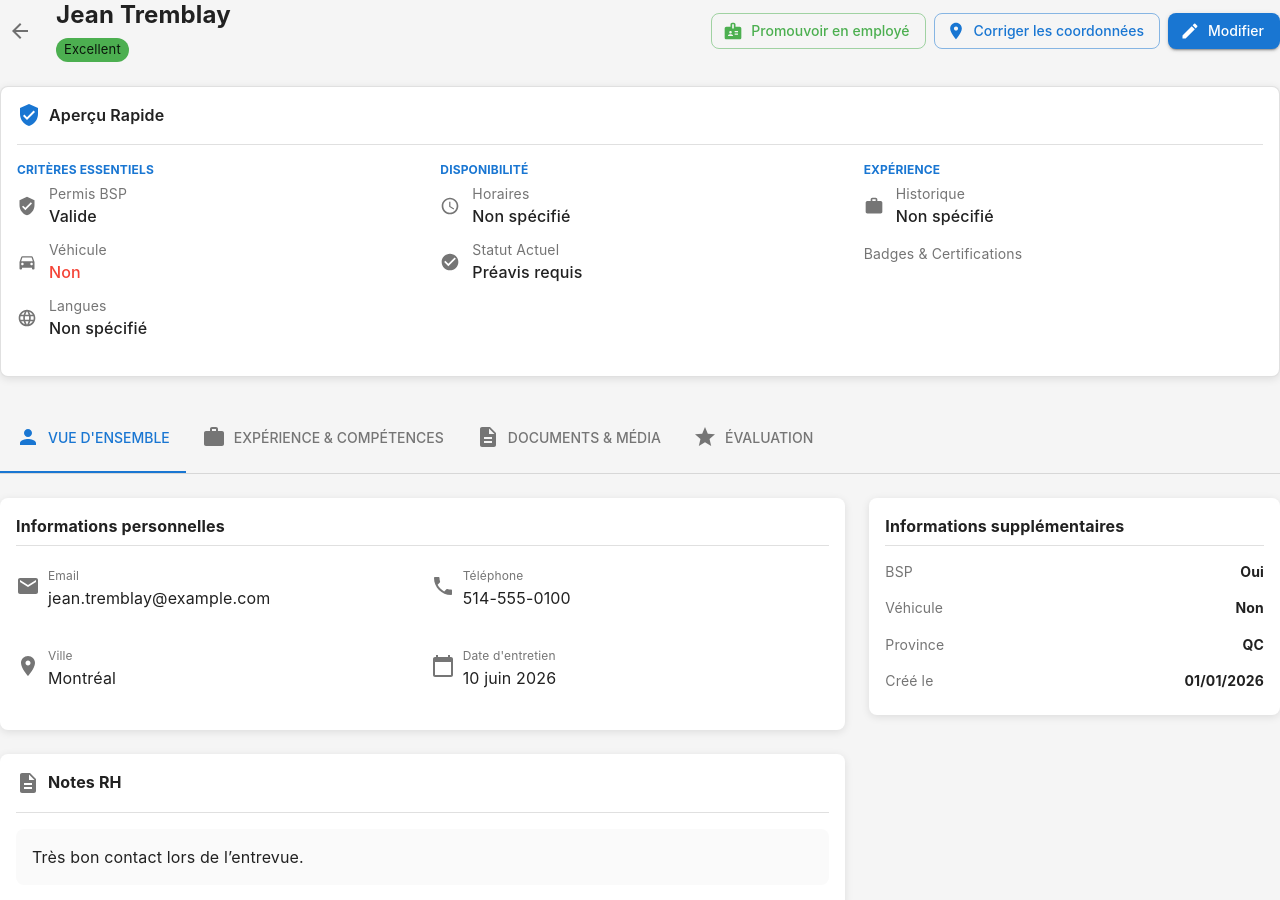
Test: CandidateDetailPage › ouvre le dialog « Promouvoir en employé » au clic
The width and height of the screenshot is (1280, 900).
Expected: the heading "Jean Tremblay" is shown, [56,0,231,30]
Step 1. Click the button "Promouvoir en employé" → (818, 31), box [711,13,926,49]
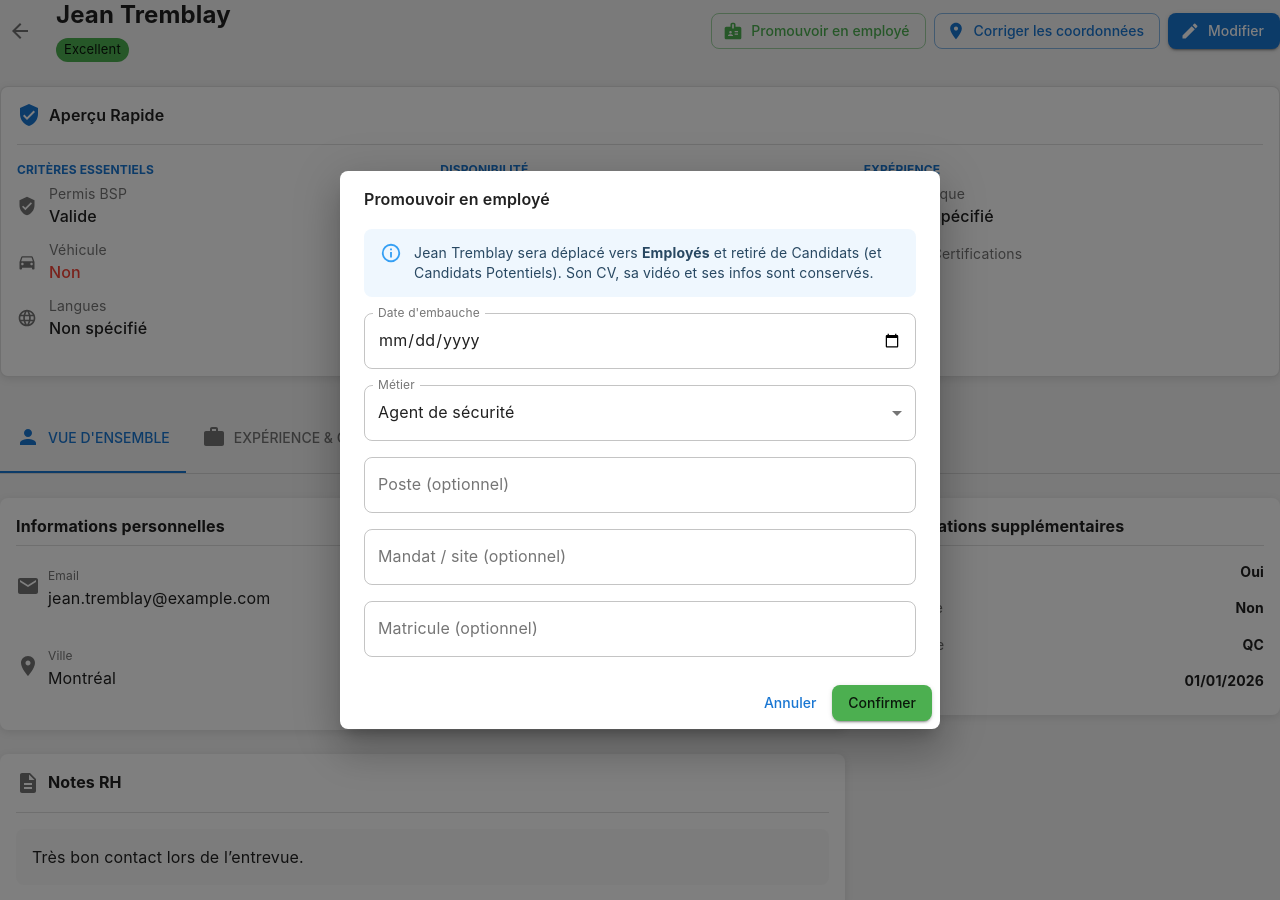
Now the dialog is shown, box [340,171,940,729]
Now the date field labelled "Date d'embauche" is shown, box [364,313,916,369]
